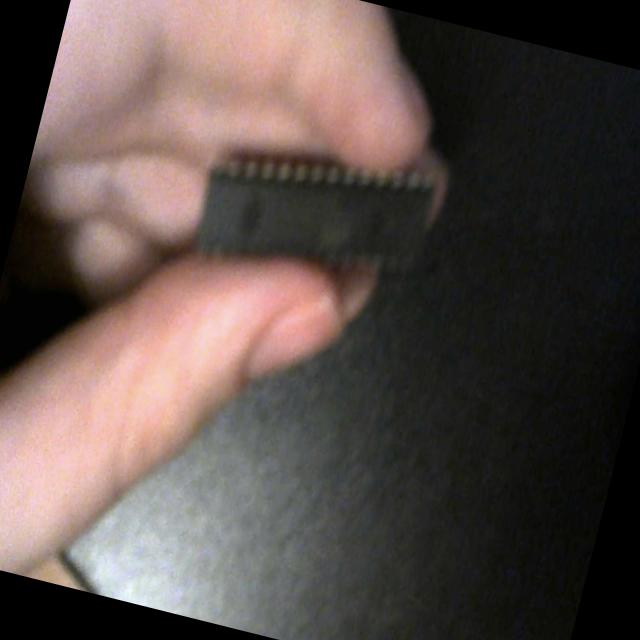atmega: (180, 114, 448, 318)
